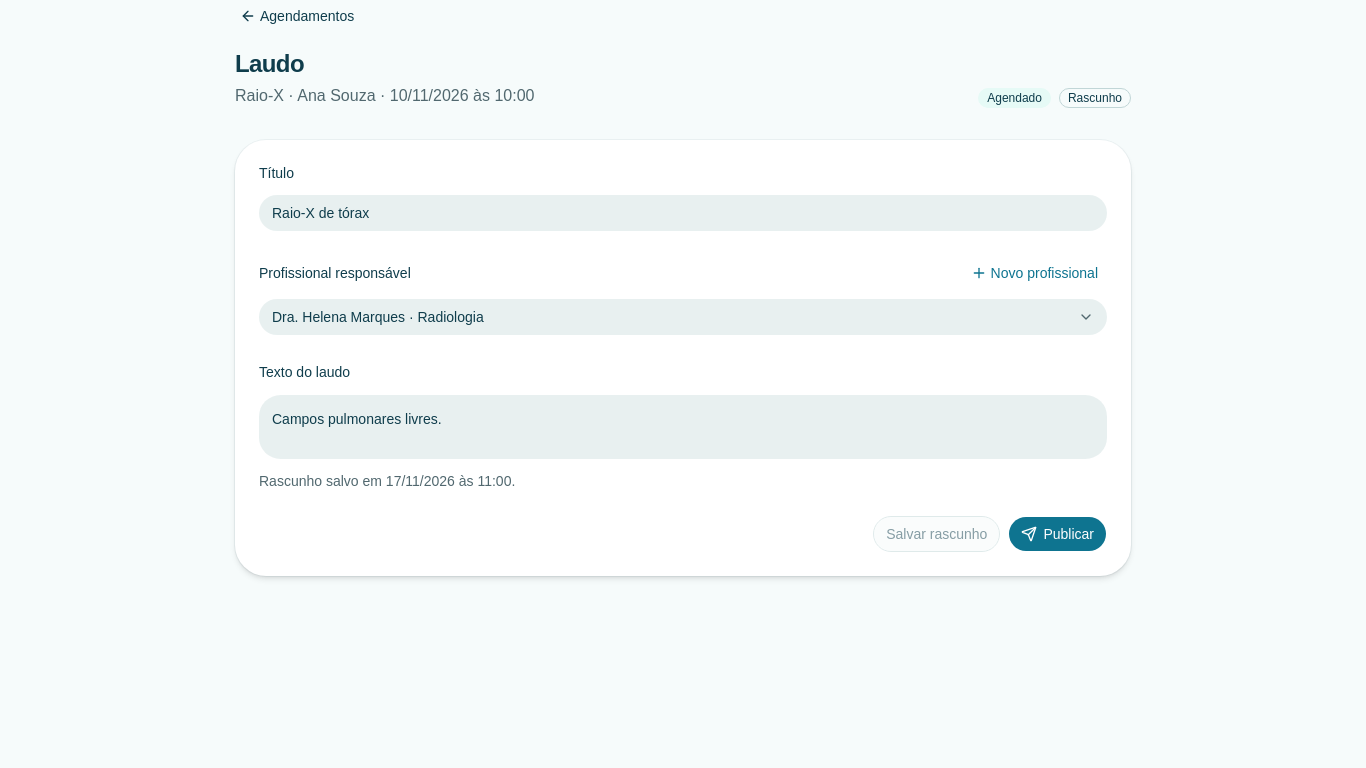
Scenario: ReportPage › keeps the editor and shows why publishing failed
Step 1. Click the button "Publicar" → coordinates (1058, 534), box [1008,516,1107,552]
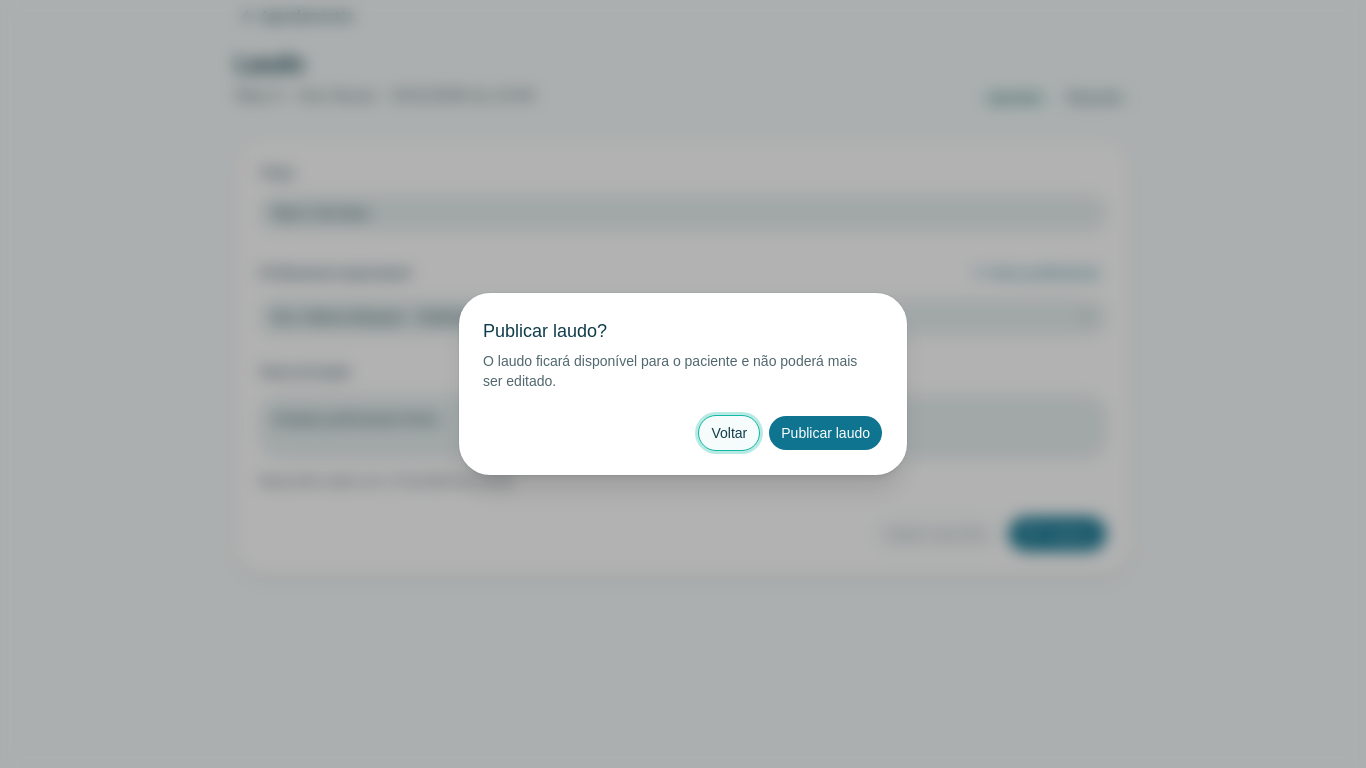
Step 2. Click the button "Publicar laudo" → coordinates (826, 433), box [768,415,883,451]
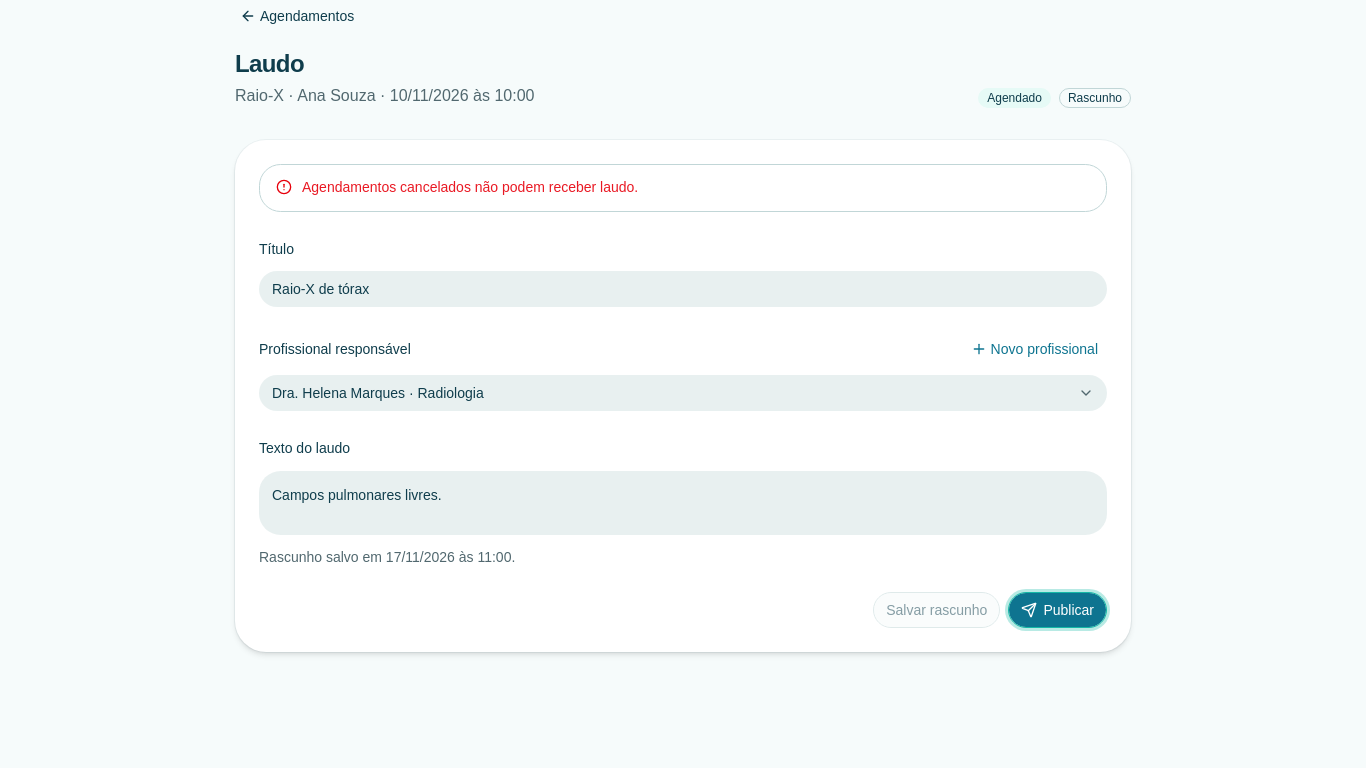
Expected: the text box labelled "Texto do laudo" holds "Campos pulmonares livres.", [259,470,1107,534]
Expected: the text "Agendamentos cancelados não podem receber laudo." is shown, [302,179,638,195]
